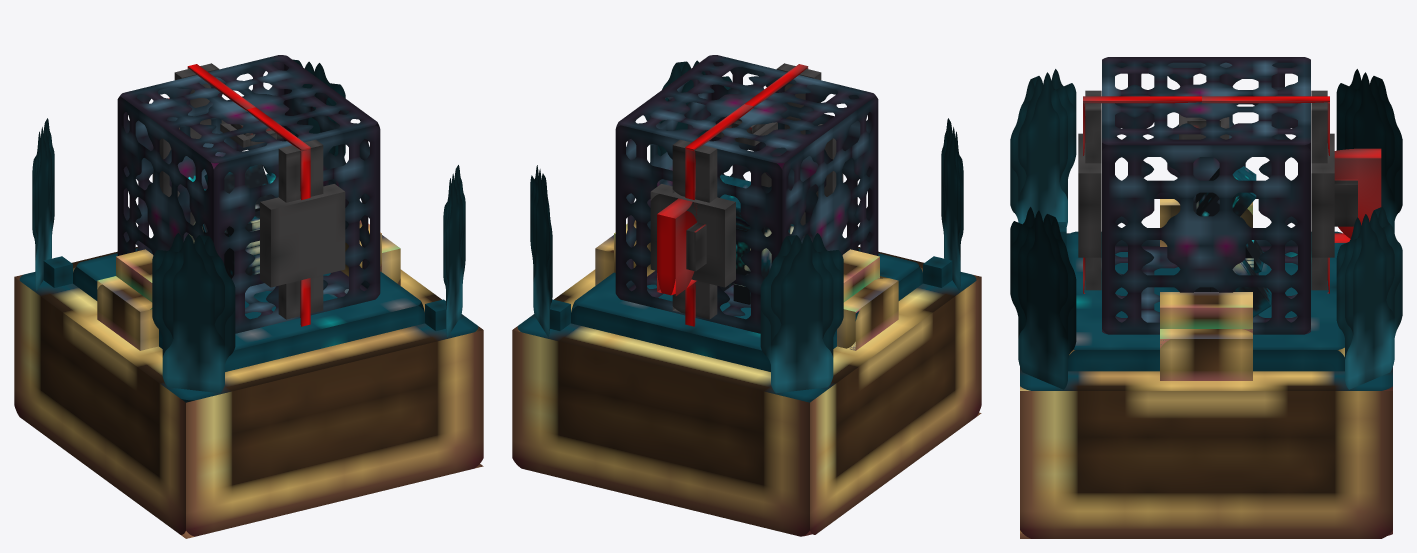
Rendered from mechanical_scanning_sonar.obj.
3 renders of one model, left to right at view 1: azimuth 30°, elevation 25°; view 2: azimuth 150°, elevation 25°; view 3: azimuth 270°, elevation 25°, orthographic. The views are drawn at different scales.
Parts seen in each view (by area): view 1: cube, torso, head; view 2: cube, head; view 3: cube, head, right_arm.
Part boxes in pixels (bbox=[...]): cube: bbox=[14, 55, 483, 538]; torso: bbox=[224, 210, 259, 278]; head: bbox=[204, 164, 273, 211]; cube: bbox=[512, 55, 981, 536]; head: bbox=[720, 174, 750, 230]; cube: bbox=[1010, 57, 1402, 538]; head: bbox=[1196, 166, 1256, 216]; right_arm: bbox=[1232, 259, 1271, 317].
Size of the model in its own units: 1.05 by 1.19 by 1.05.
